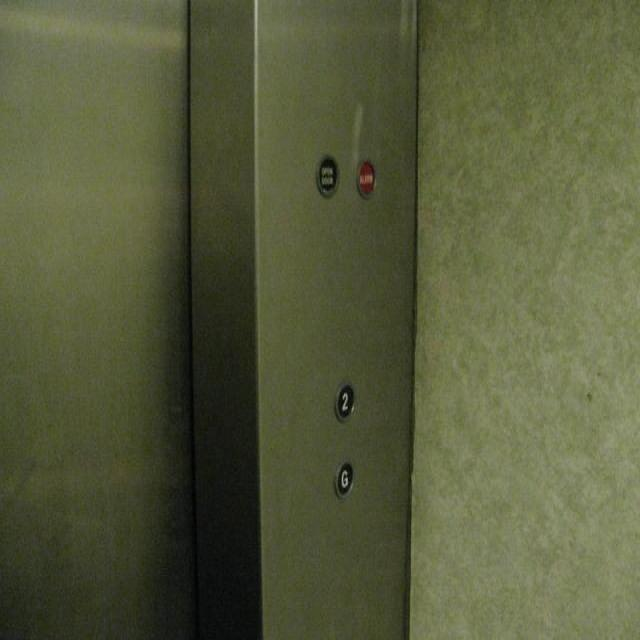2: (333, 379, 357, 421)
G: (333, 456, 356, 499)
text_blur: (313, 153, 341, 196), (355, 157, 376, 200)
